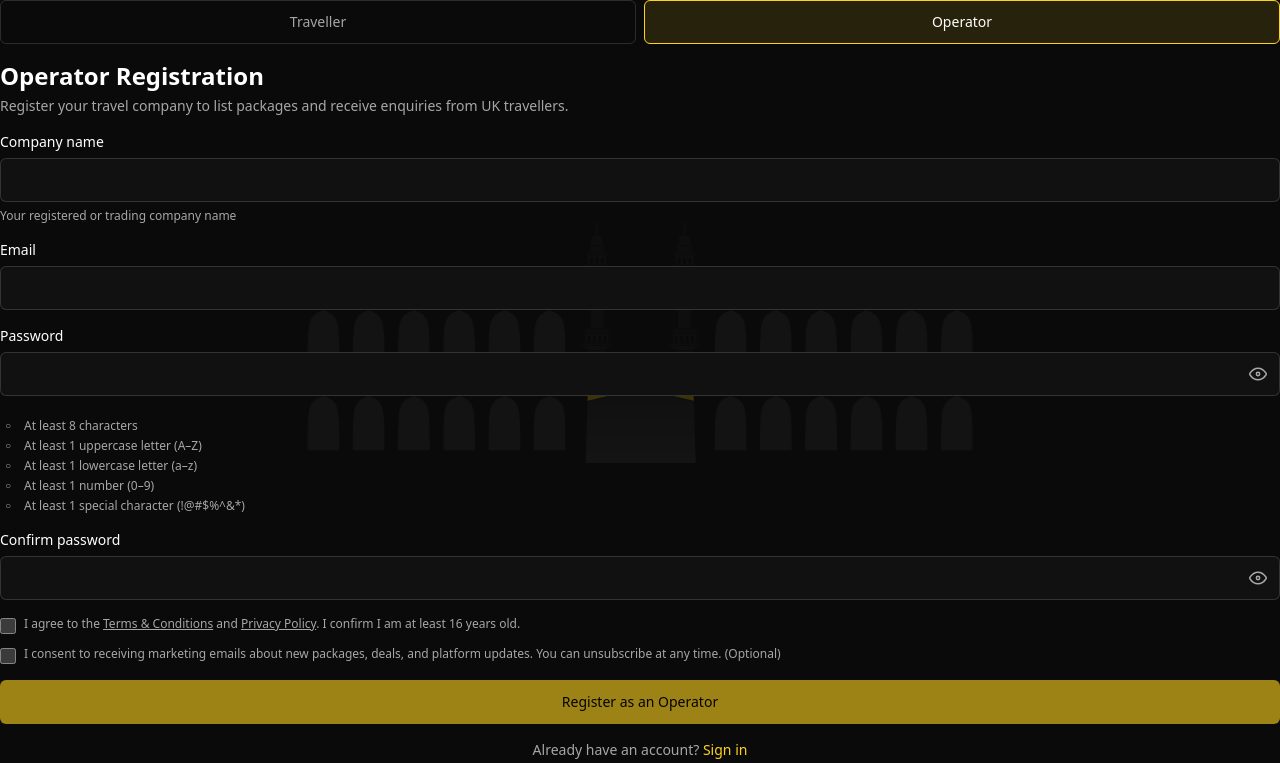
Test: SignUpForm › shows error on failed signup
The image size is (1280, 763).
Type "Test User" into the field with test id "signup-name" at (640, 180), box [0,158,1279,202]
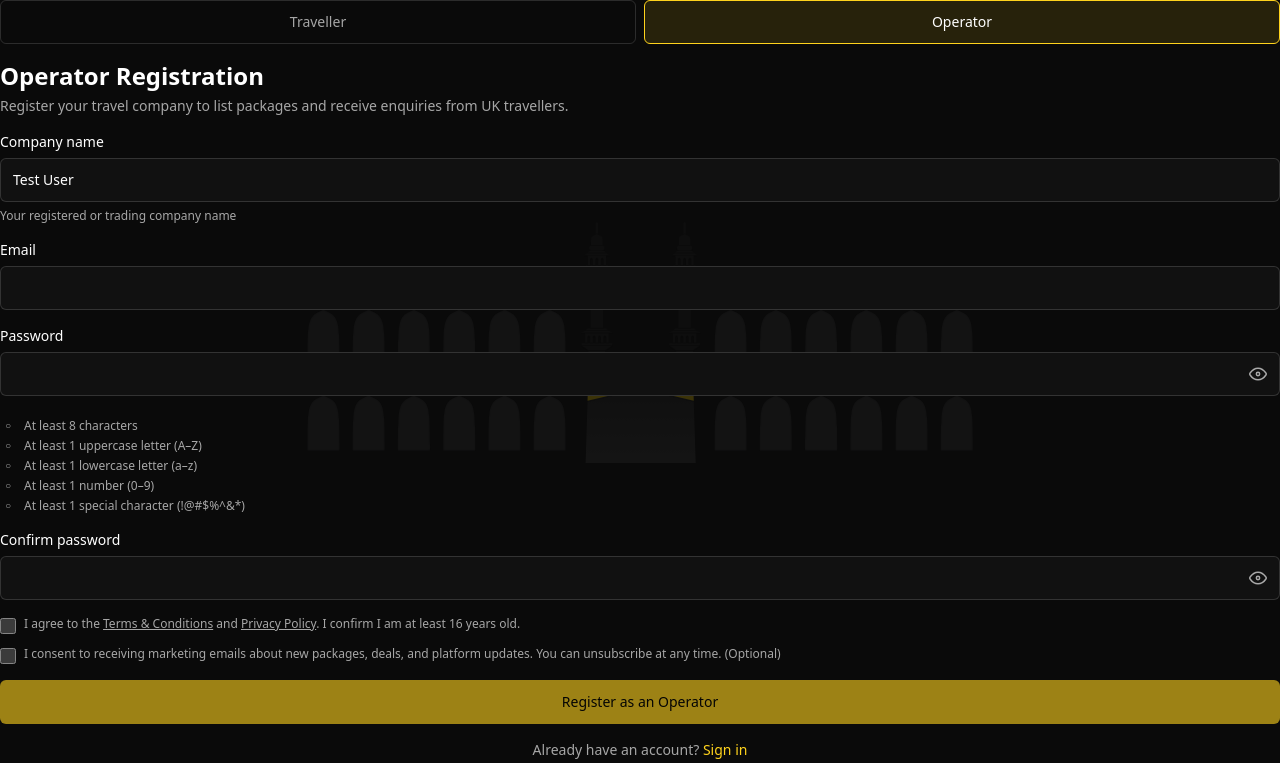
Type "test@example.com" into the field with test id "signup-email" at (640, 288), box [0,266,1279,310]
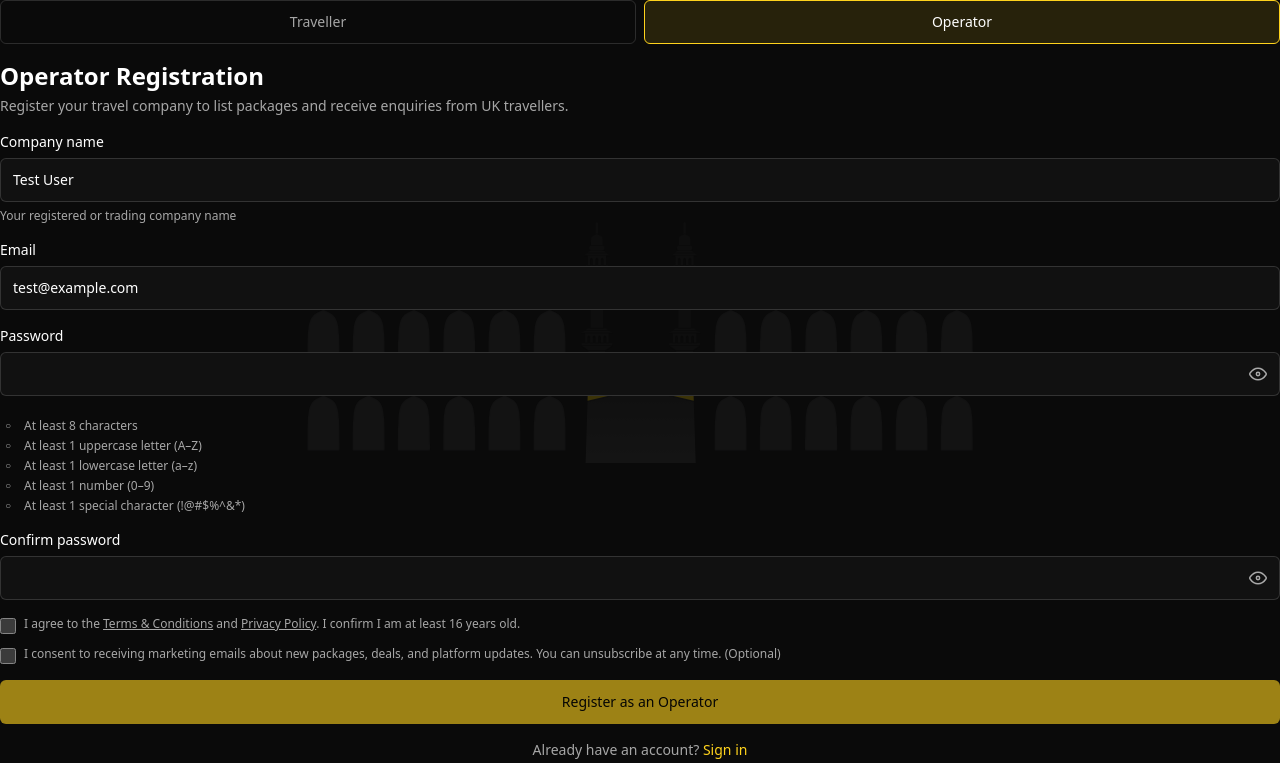
Type "TestPass123!" into the password field with test id "signup-password" at (640, 374), box [0,352,1279,396]
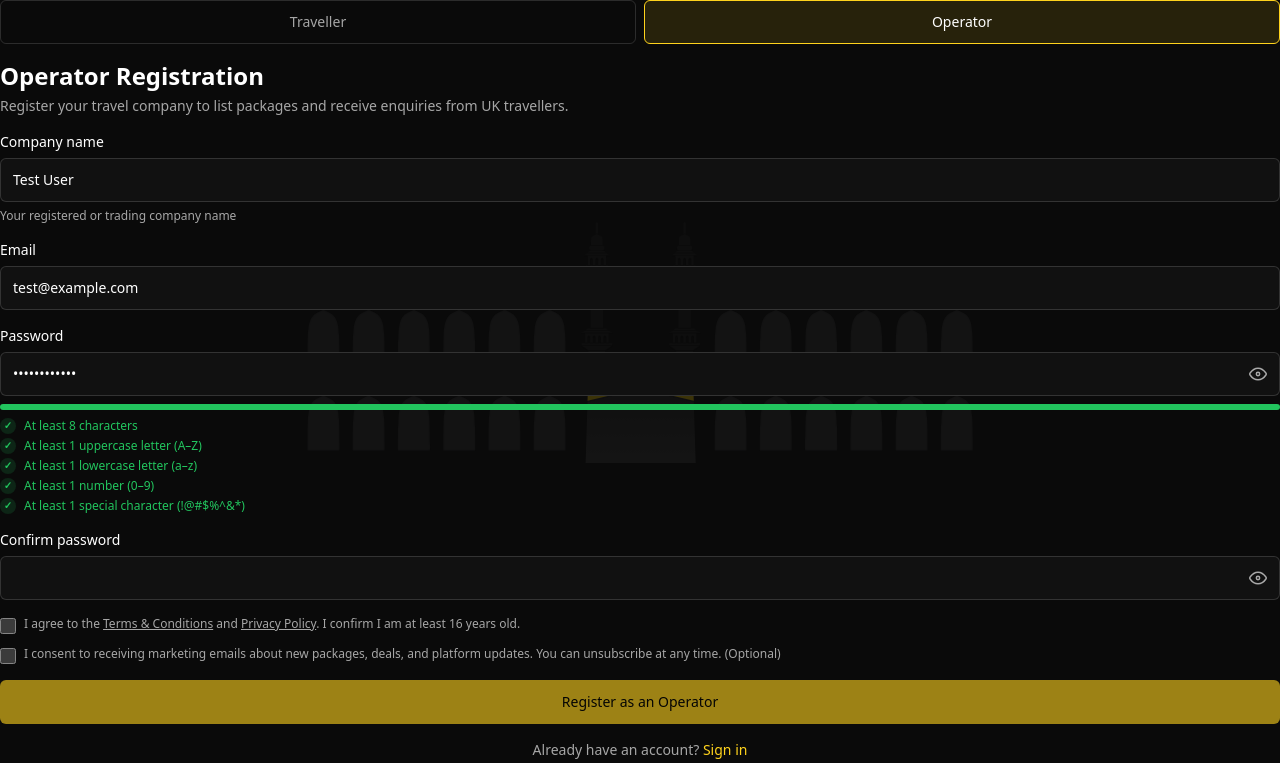
Type "TestPass123!" into the password field with test id "signup-confirm-password" at (640, 578), box [0,556,1279,600]
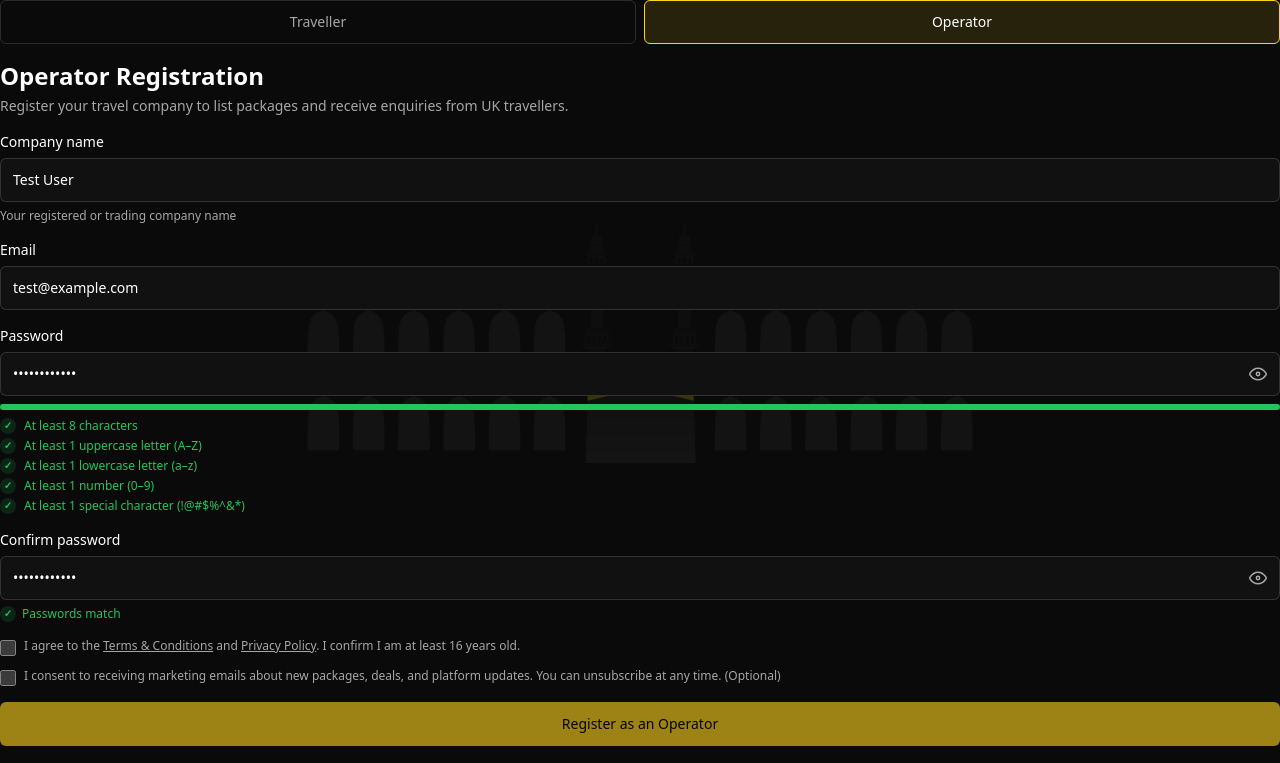
Click the checkbox with test id "signup-terms-checkbox" at (8, 648), box [0,640,16,656]
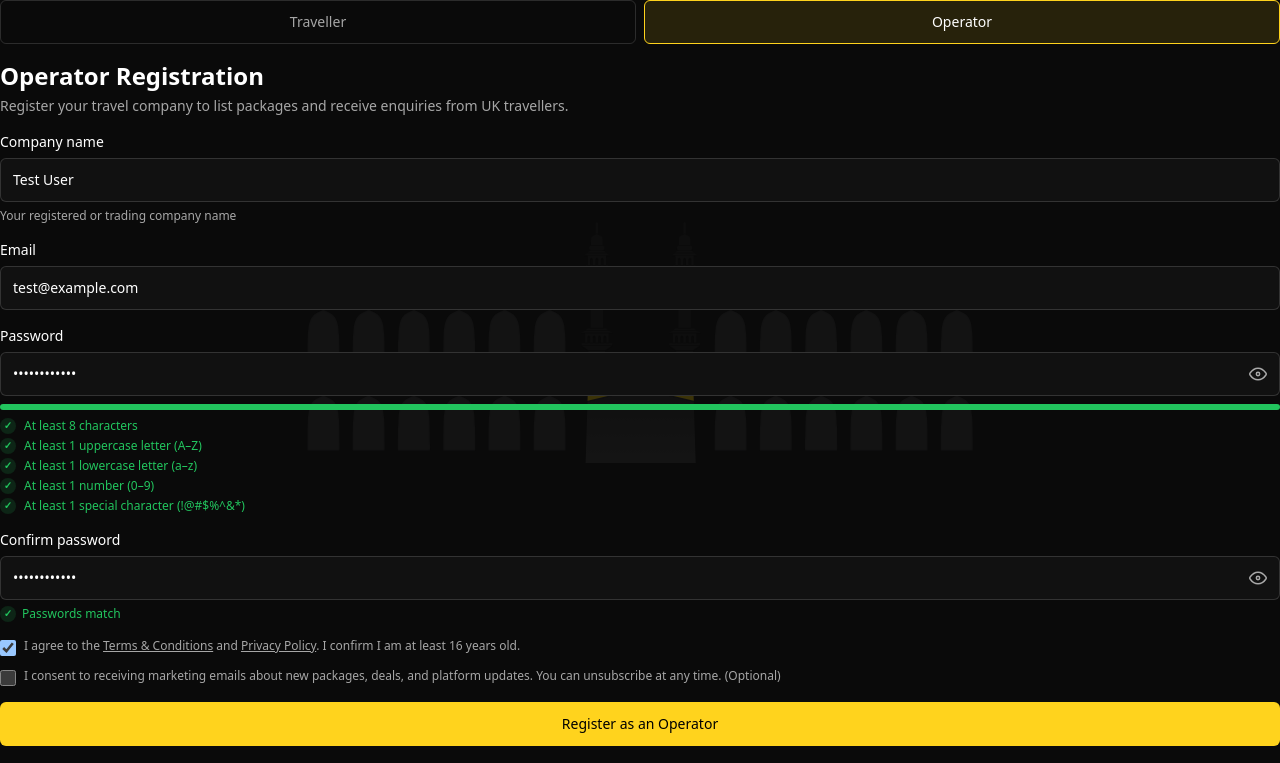
Click the button with test id "signup-submit" at (640, 724), box [0,702,1279,746]
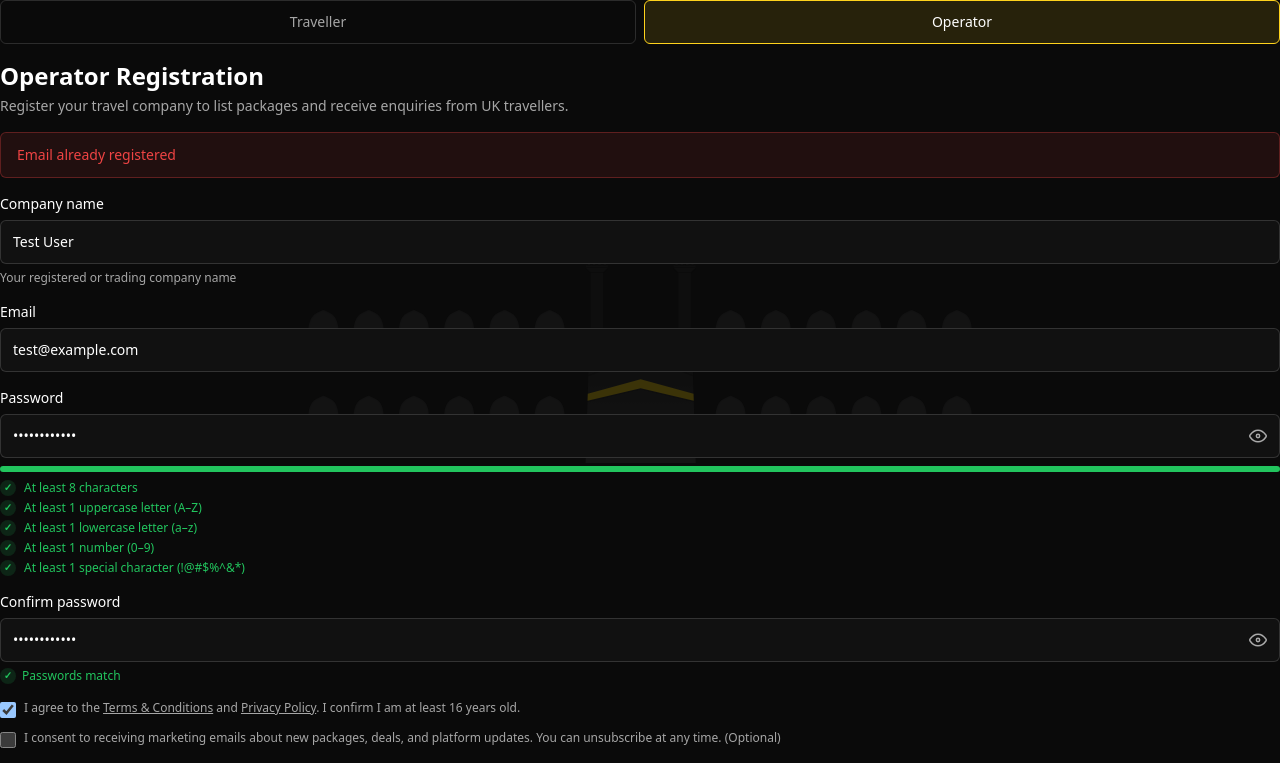
Expected: the message with test id "signup-error" reads "Email already registered", [17,145,176,164]
